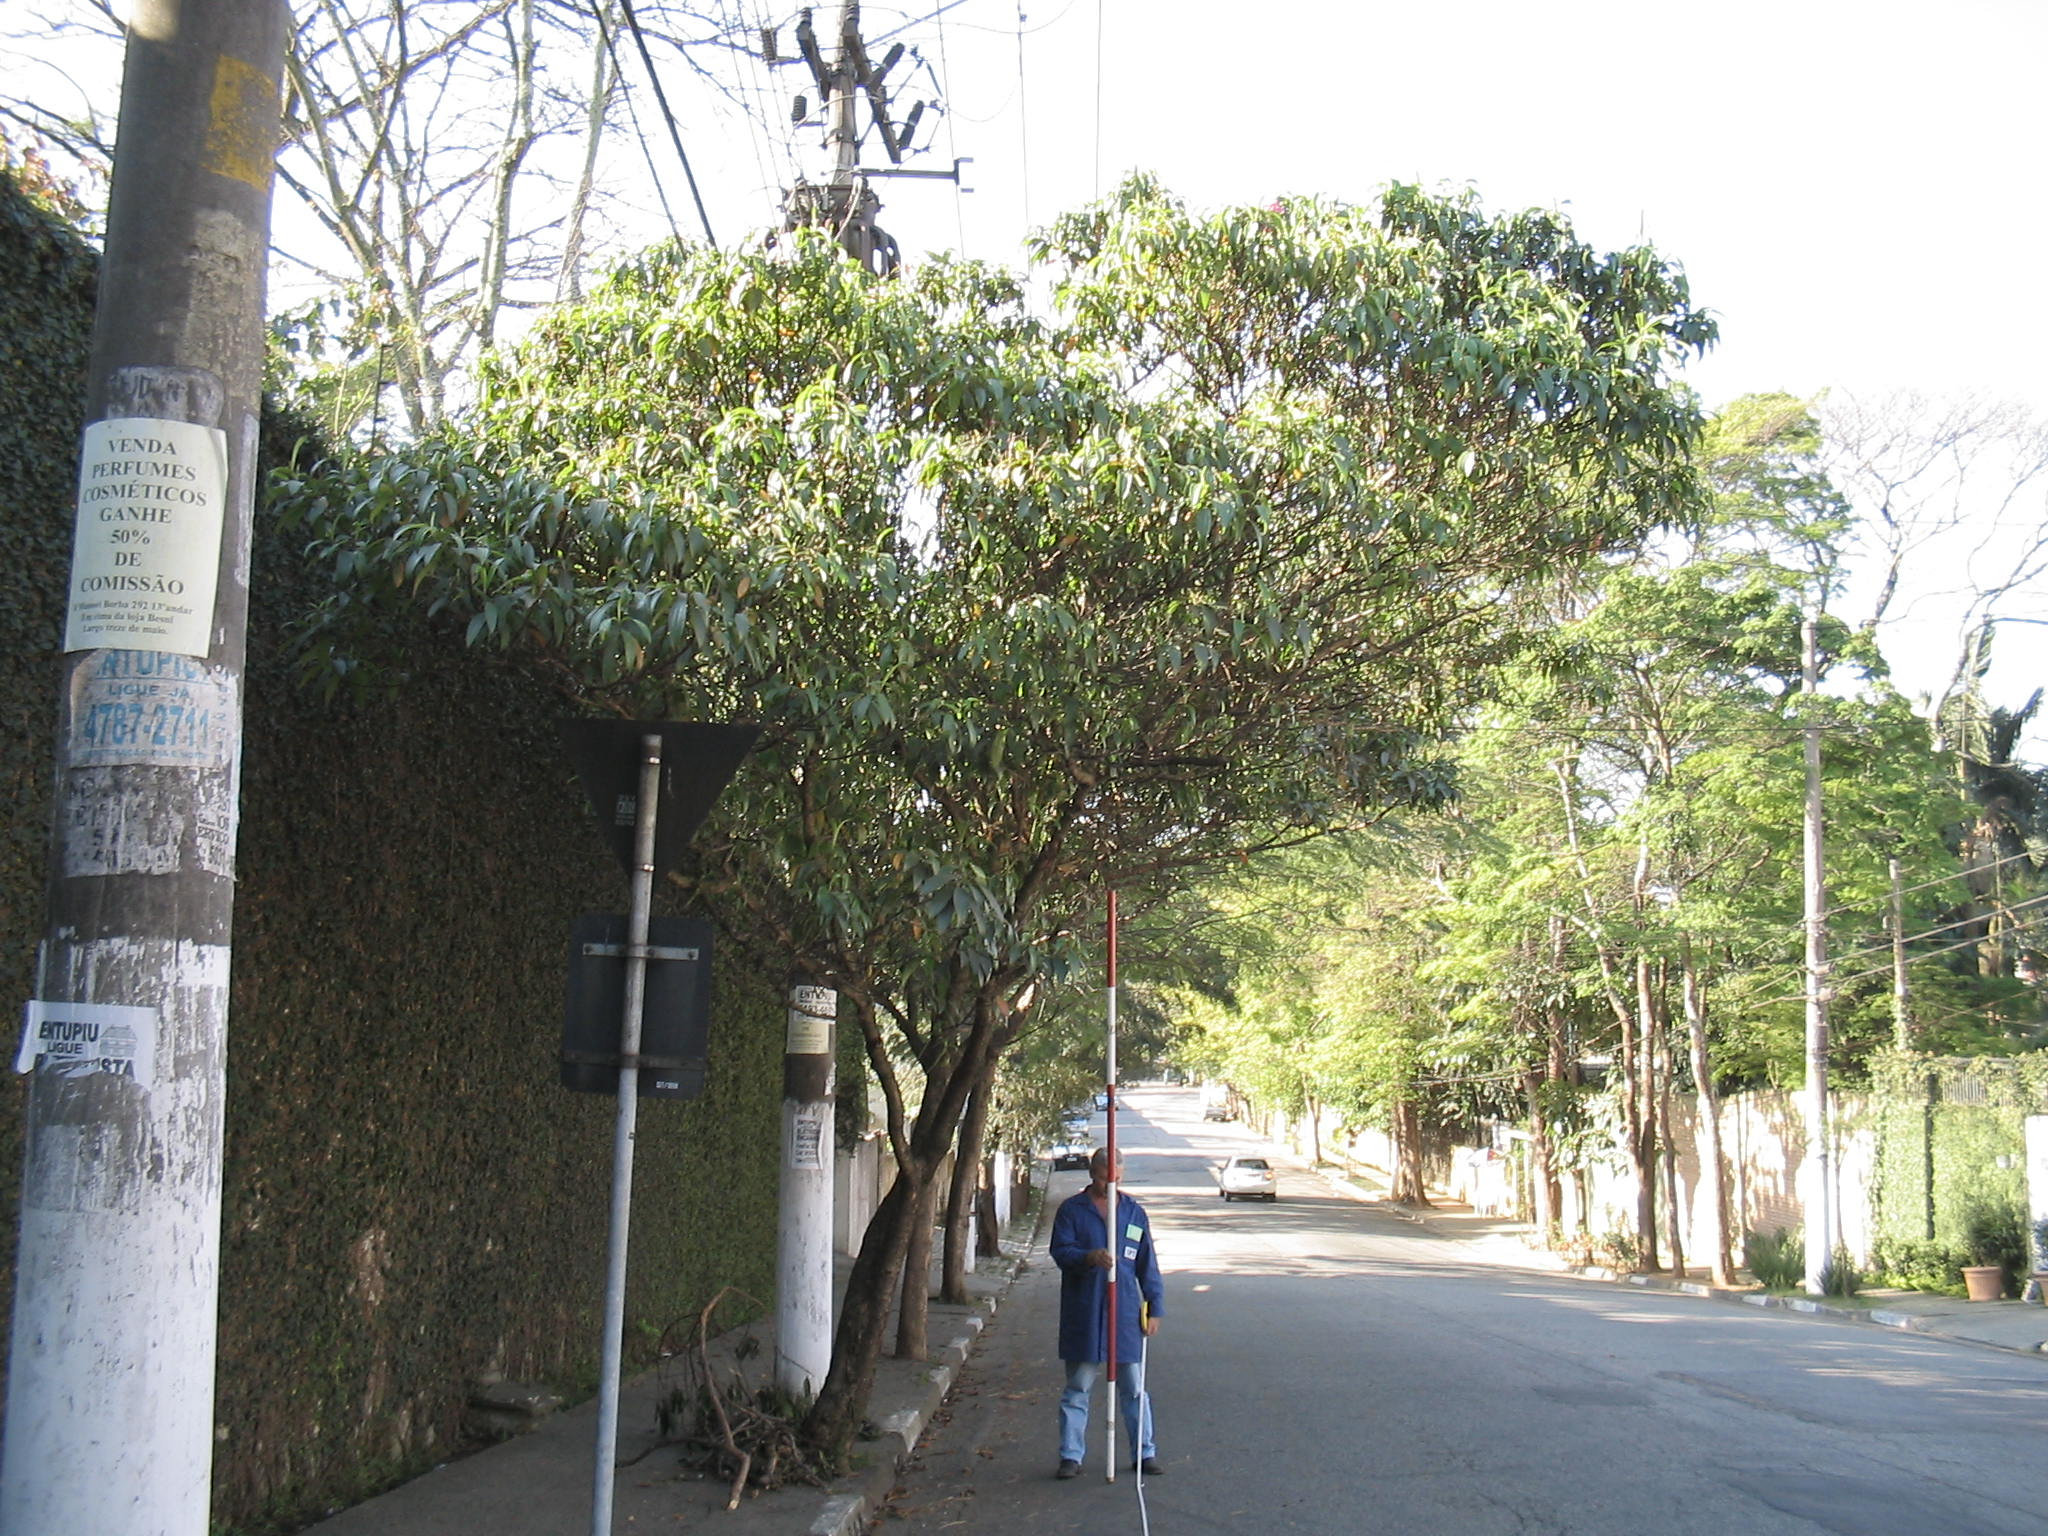crown: (268, 187, 1713, 958)
stem: (789, 1162, 974, 1473)
stick: (1076, 891, 1142, 1480)
tree: (260, 181, 1716, 1476)
